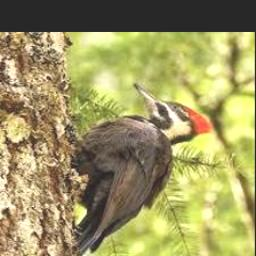Woodpecker: (70, 82, 211, 256)
